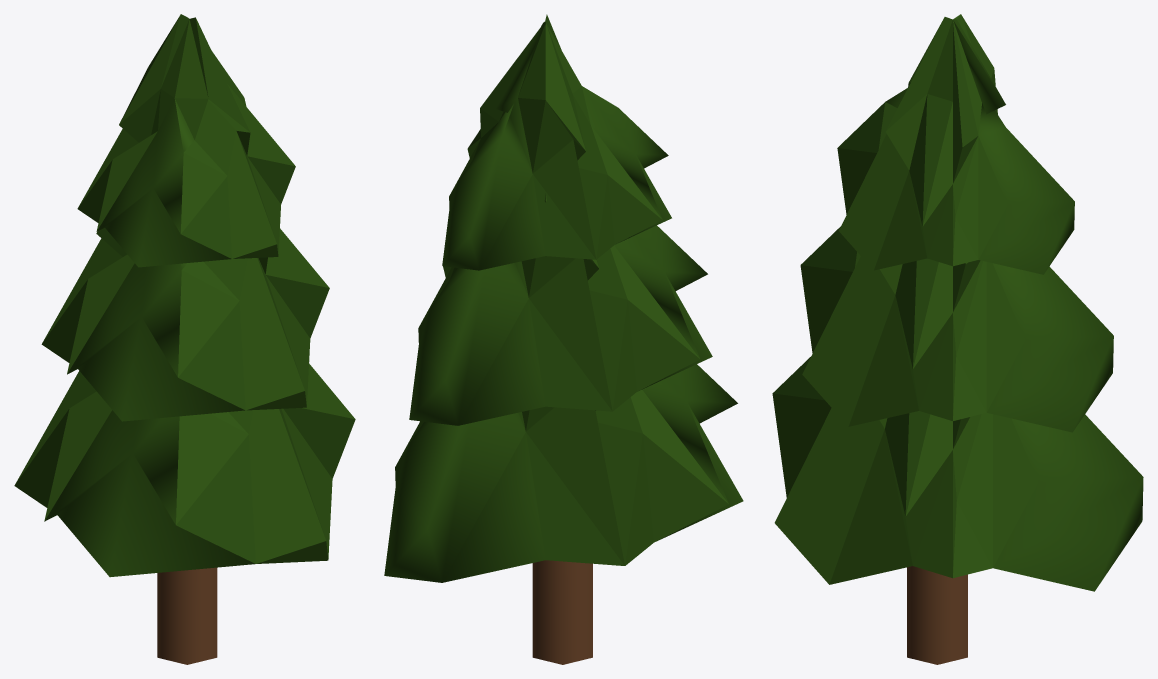
File: tannepoly.FBX
3 renders of one model, left to right at view 1: azimuth 30°, elevation 25°; view 2: azimuth 150°, elevation 25°; view 3: azimuth 270°, elevation 25°, orthographic.
Visible parts, largest first — view 1: Cone003, Cone002, Cone001, Cylinder001; view 2: Cone003, Cone002, Cone001, Cylinder001; view 3: Cone003, Cone002, Cone001, Cylinder001.
Part boxes in pixels (bbox=[...]): Cone003: bbox=[14, 363, 355, 577]; Cone002: bbox=[41, 228, 329, 421]; Cone001: bbox=[77, 14, 295, 267]; Cylinder001: bbox=[157, 567, 217, 664]; Cone003: bbox=[384, 364, 743, 582]; Cone002: bbox=[409, 193, 712, 425]; Cone001: bbox=[442, 14, 671, 270]; Cylinder001: bbox=[532, 560, 592, 664]; Cone003: bbox=[772, 357, 1143, 591]; Cone002: bbox=[800, 226, 1113, 432]; Cone001: bbox=[837, 14, 1074, 274]; Cylinder001: bbox=[907, 566, 967, 664].
Bounding box in the file's own units: 20.02 × 38.53 × 20.26.
Materials: 2 (2 with a texture image).
